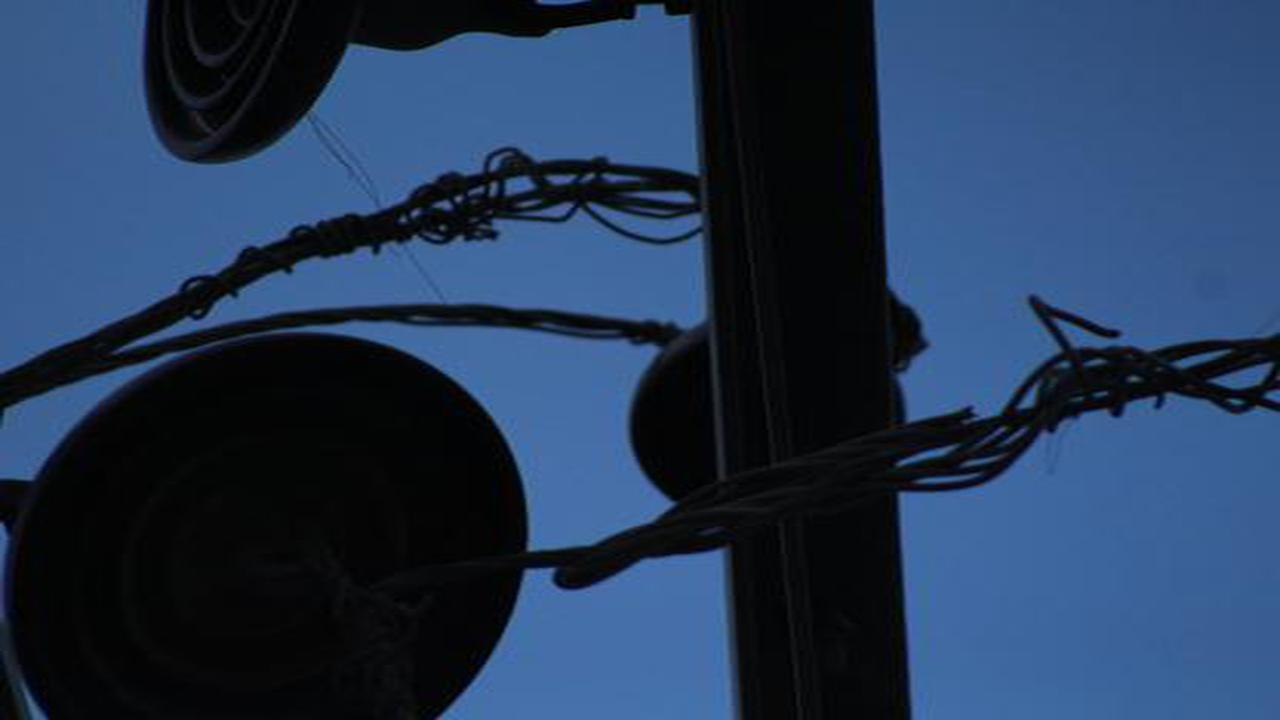insulator_disc: (10, 344, 554, 706)
